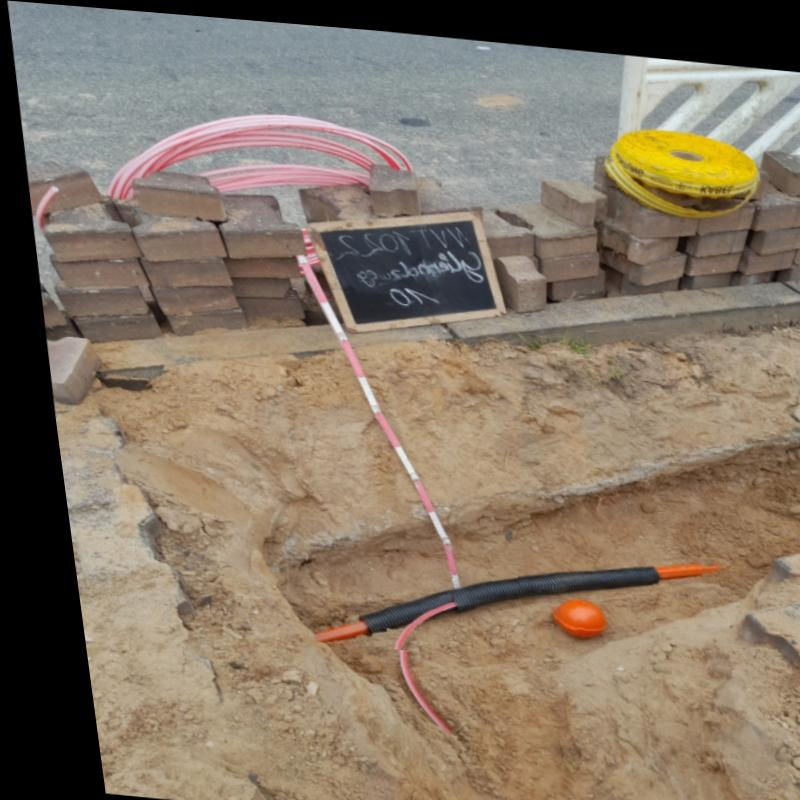Kugelmarker: (539, 591, 594, 629)
Orang-Speednetrohrchen: (297, 548, 704, 638)
